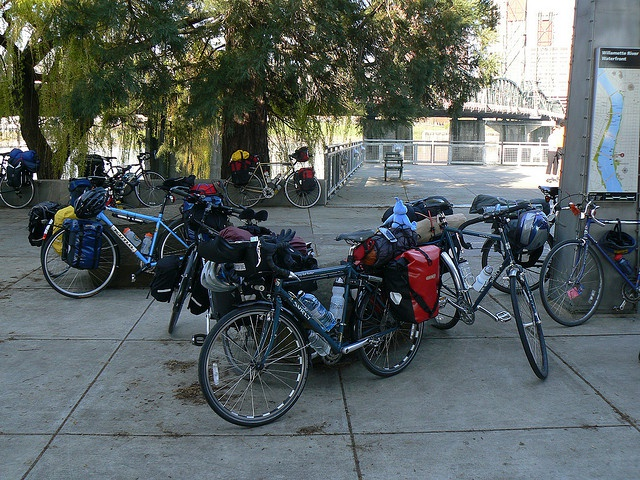non-vehicle: (198, 229, 424, 426), (424, 195, 549, 380), (44, 184, 193, 297), (162, 184, 270, 339), (538, 193, 640, 328), (479, 184, 562, 294), (226, 156, 322, 212), (0, 152, 34, 208), (135, 152, 167, 207), (101, 157, 139, 196)
